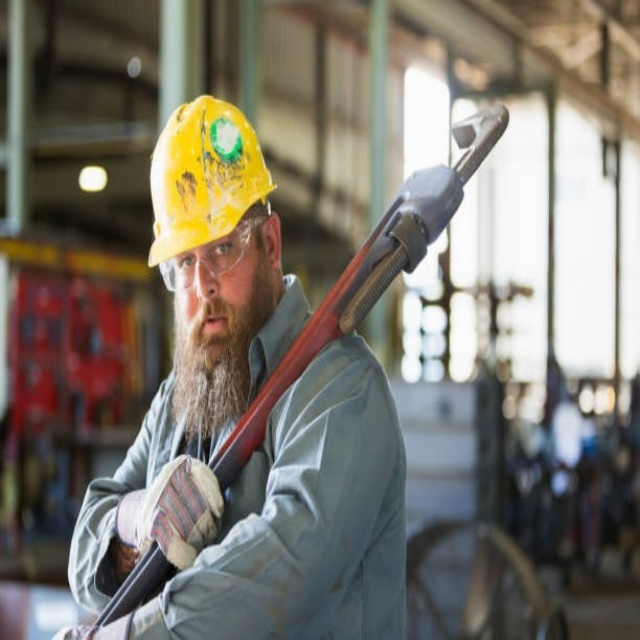Gafas: (160, 214, 265, 296)
Guantes: (120, 450, 227, 571)
Sin_mascara: (187, 304, 234, 351)
